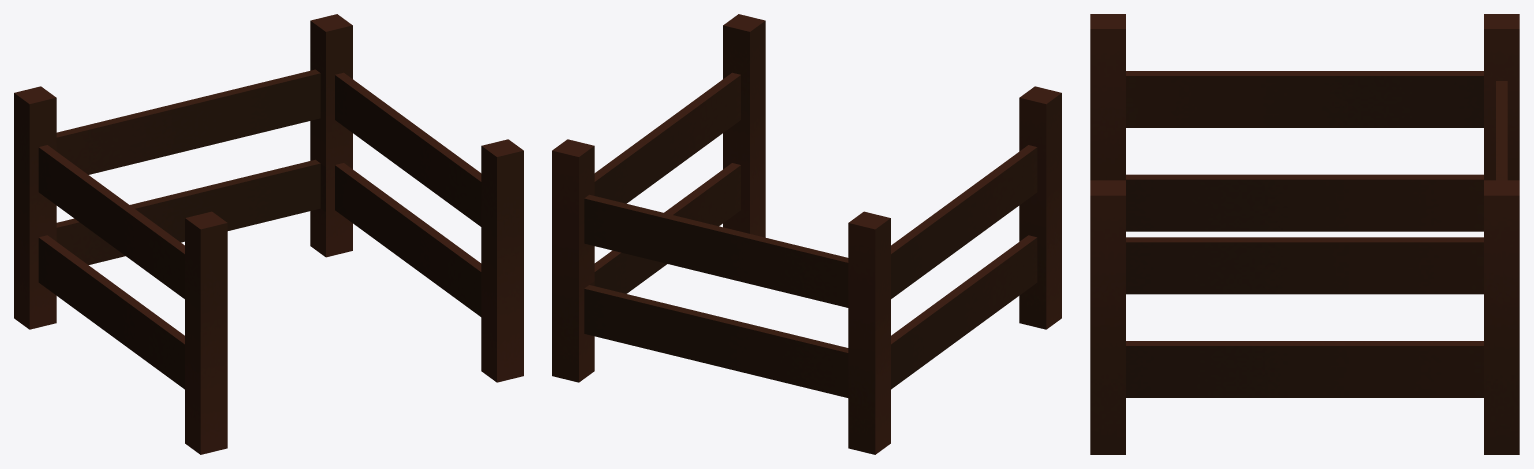
File: wood_basket.fbx
The picture shows the model from 3 angles, left to right: view 1: azimuth 30°, elevation 25°; view 2: azimuth 150°, elevation 25°; view 3: azimuth 270°, elevation 25°; orthographic projection. The views are drawn at different scales.
Parts seen in each view (by area): view 1: woodBasket; view 2: woodBasket; view 3: woodBasket.
Boxes of the visible parts, left/top/right/bottom form: woodBasket: left=14, top=14, right=523, bottom=454; woodBasket: left=552, top=14, right=1061, bottom=454; woodBasket: left=1090, top=14, right=1519, bottom=454.
Size of the model in its own units: 600 by 400 by 600.
Materials: 1 (1 with a texture image).
